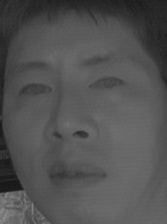eye: (87, 73, 129, 96), (17, 79, 52, 101)
mouth: (44, 153, 107, 194)
